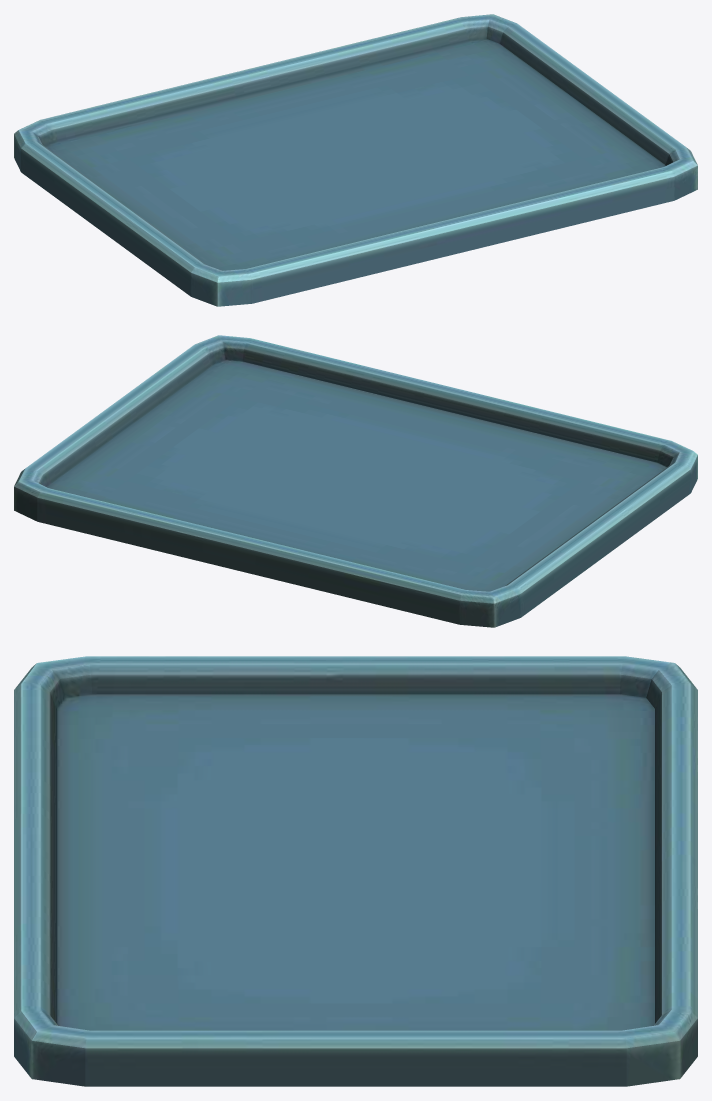
File: ZhaLan_Box.FBX
3 views of the same model, one above another, from view 1: azimuth 30°, elevation 25°; view 2: azimuth 150°, elevation 25°; view 3: azimuth 270°, elevation 25° (orthographic). The views are drawn at different scales.
Visible parts, largest first — view 1: ZhaLan_Box; view 2: ZhaLan_Box; view 3: ZhaLan_Box.
Boxes of the visible parts, x1=… form: ZhaLan_Box: x1=14, y1=14, x2=697, y2=306; ZhaLan_Box: x1=14, y1=335, x2=697, y2=627; ZhaLan_Box: x1=14, y1=656, x2=697, y2=1086.
Size of the model in its own units: 736 by 39.79 by 548.
